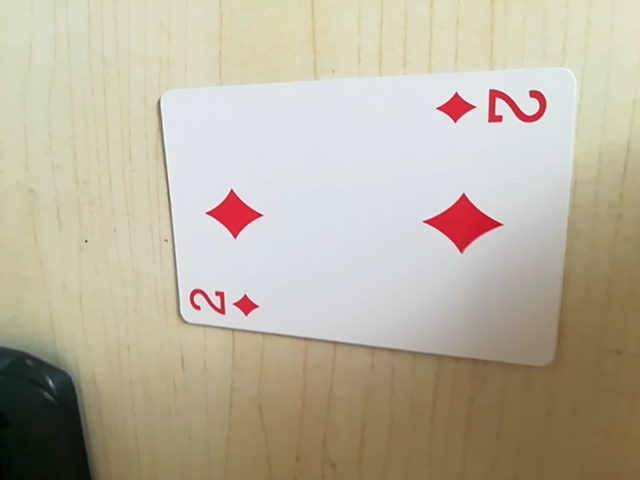fk 2: (433, 83, 552, 133), (185, 278, 267, 328)
